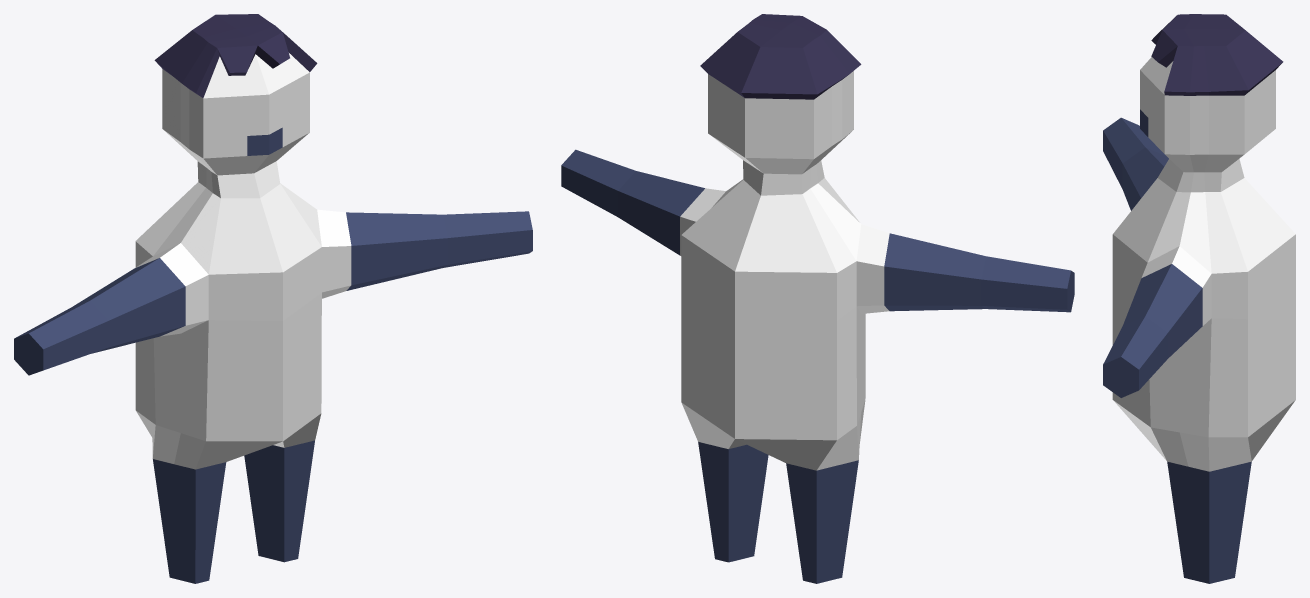
Rendered from NativeVillager1.fbx.
3 views of the same model, side by side, from view 1: azimuth 30°, elevation 25°; view 2: azimuth 150°, elevation 25°; view 3: azimuth 270°, elevation 25° (orthographic). The views are drawn at different scales.
Parts seen in each view (by area): view 1: Villager.001; view 2: Villager.001; view 3: Villager.001.
Part boxes in pixels (x1=…): Villager.001: x1=14, y1=14, x2=532, y2=583; Villager.001: x1=561, y1=14, x2=1074, y2=583; Villager.001: x1=1103, y1=14, x2=1295, y2=583.
Bounding box in the file's own units: 45 × 45 × 15.
